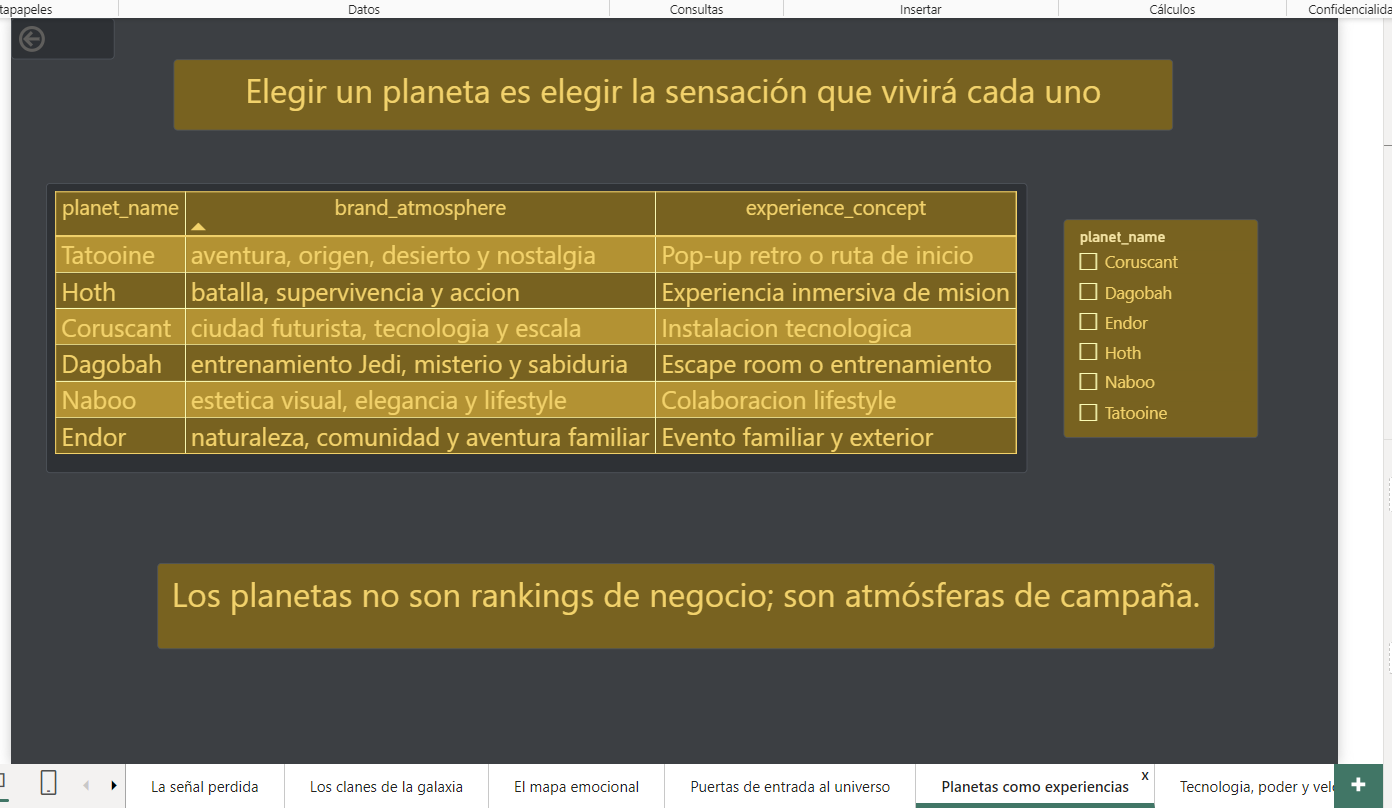

Layout of this report page (visuals, bound fields, positions):
{"tool":"powerbi","page":{"name":"Planetas como experiencias","canvas":[1280,720],"ordinal":4},"visuals":[{"type":"tableEx","fields":{"Values":["strategy_planet_experiences.planet_name","strategy_planet_experiences.brand_atmosphere","strategy_planet_experiences.experience_concept"]},"box":[33.8,159.3,947.1,279.9],"z":0},{"type":"actionButton","box":[0,0,100,40],"z":1000},{"type":"textbox","box":[156.8,39.8,965.2,68.8],"z":2000},{"type":"slicer","fields":{"Values":["strategy_planet_experiences.planet_name"]},"box":[1015.8,194.2,188.2,211.1],"z":3000},{"type":"textbox","box":[141.2,526,1020.6,83.2],"z":4000}]}

Visuals, with their boxes on the page's 1280x720 design canvas (x1, y1, x2, y2). These are canvas units, not pixel positions in the 1392x808 screenshot, which may show the page scaled, cropped or inside an application window:
tableEx - strategy_planet_experiences.planet_name x strategy_planet_experiences.brand_atmosphere: 34:159:981:439
actionButton: 0:0:100:40
textbox: 157:40:1122:109
slicer - strategy_planet_experiences.planet_name: 1016:194:1204:405
textbox: 141:526:1162:609
